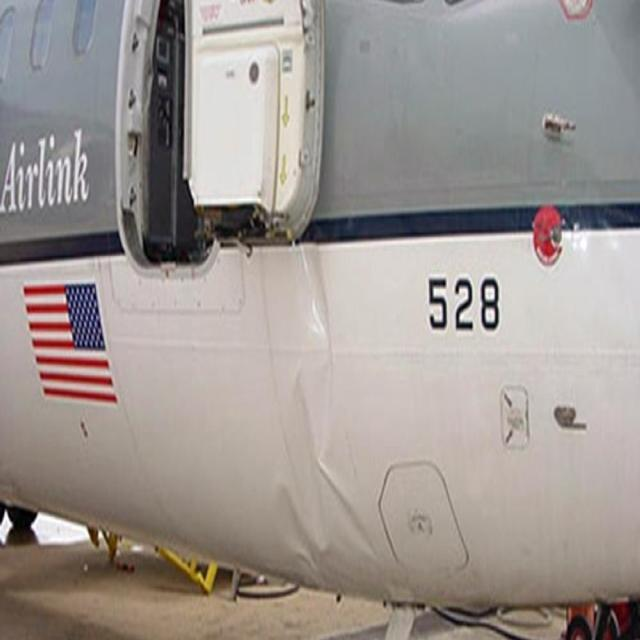dent: (274, 247, 380, 583)
